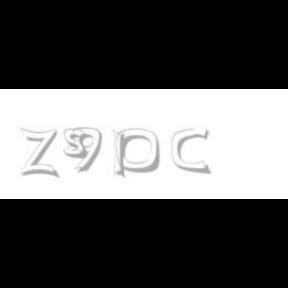9: (74, 128, 102, 172)
C: (172, 128, 210, 174)
I: (114, 128, 126, 180)
O: (116, 128, 161, 174)
Z: (20, 128, 57, 178)
s: (64, 128, 92, 160)
